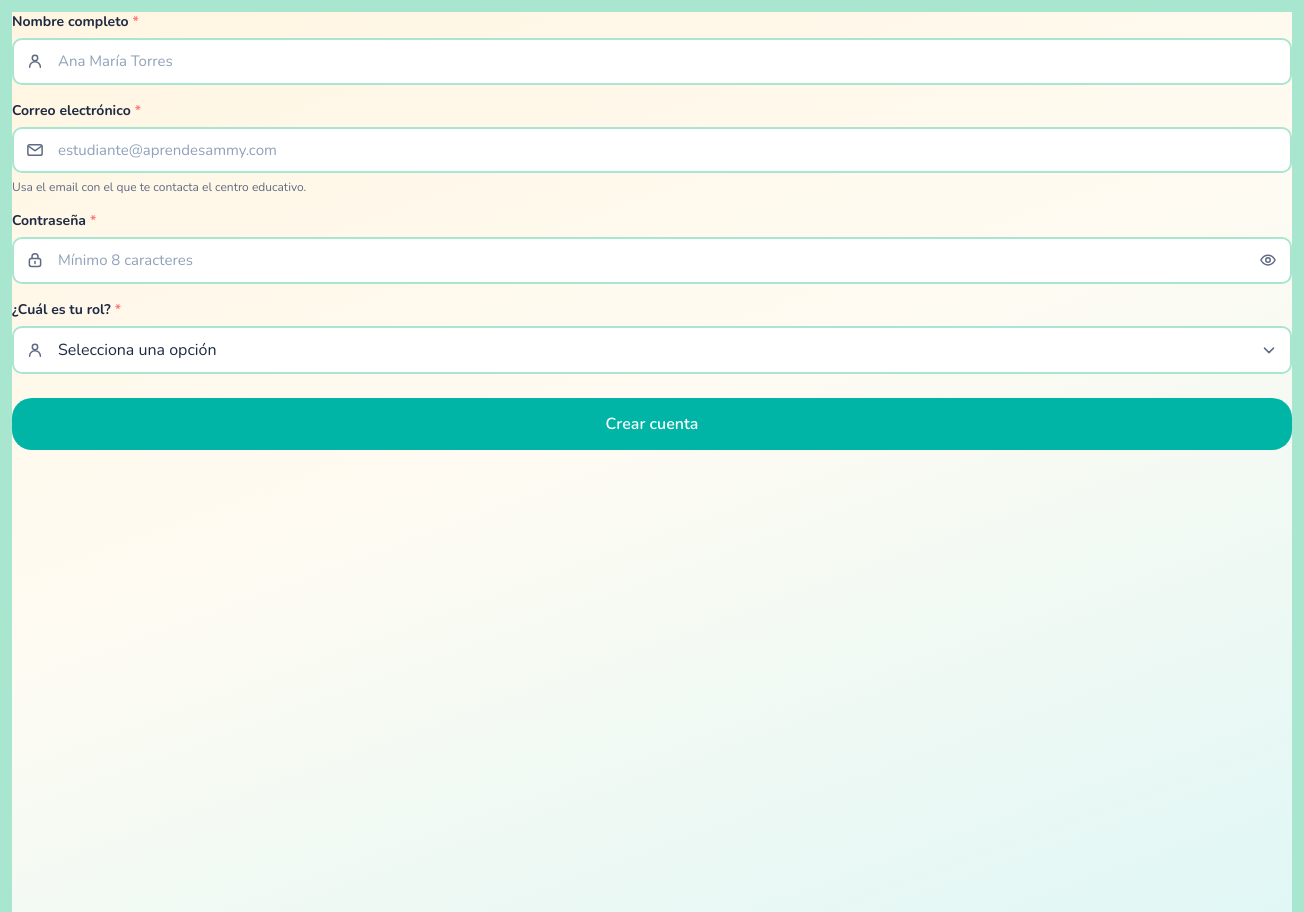
Test case: RegisterForm — campo condicional "Sala que lideras" › muestra el campo de sala al seleccionar el rol Educador
The image size is (1304, 912).
Select "Educador" in the dropdown labelled "¿Cuál es tu rol?*" at (652, 350), box [12,326,1292,374]
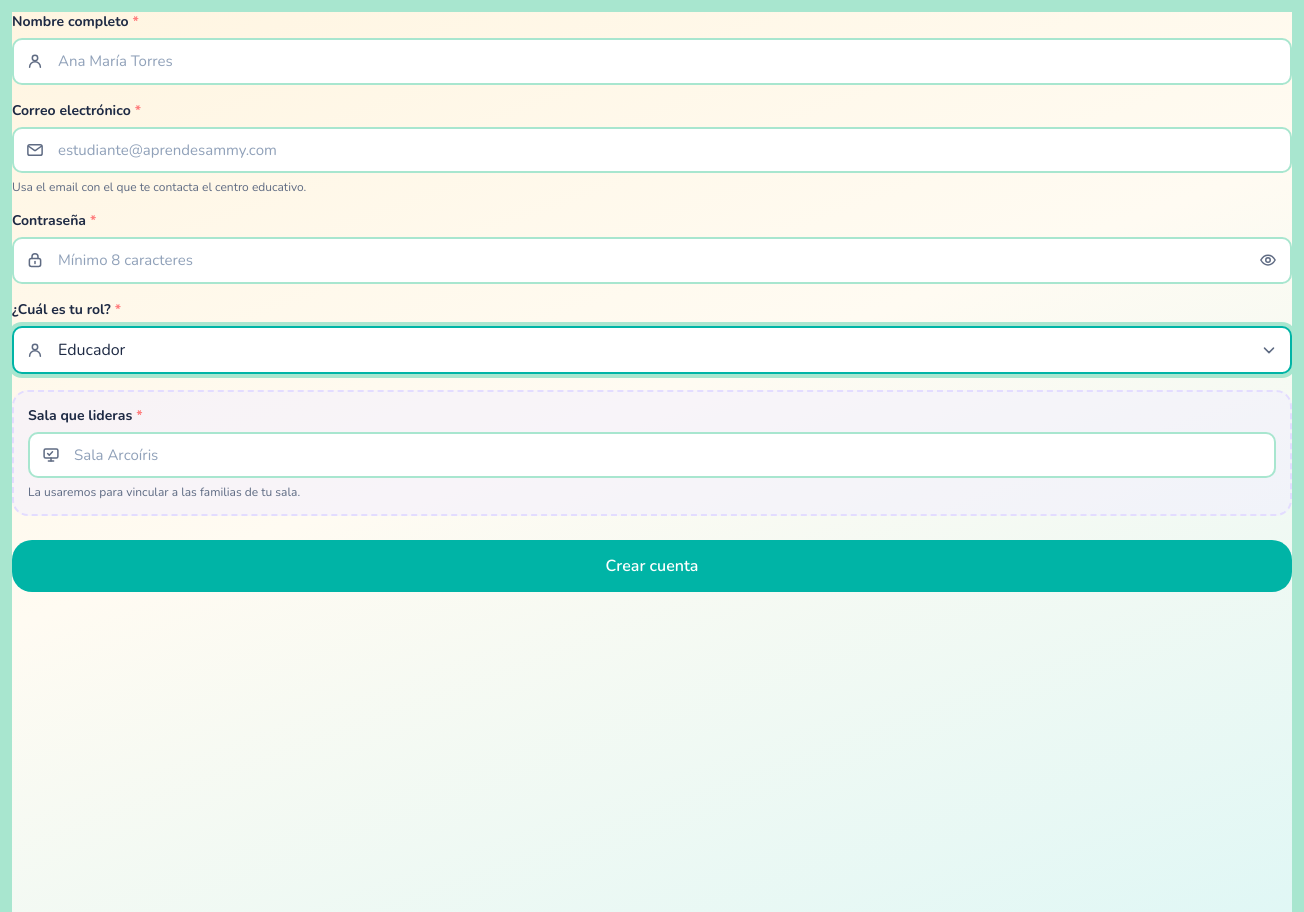
Expected: the field labelled "Sala que lideras*" is shown, [28,432,1276,478]
